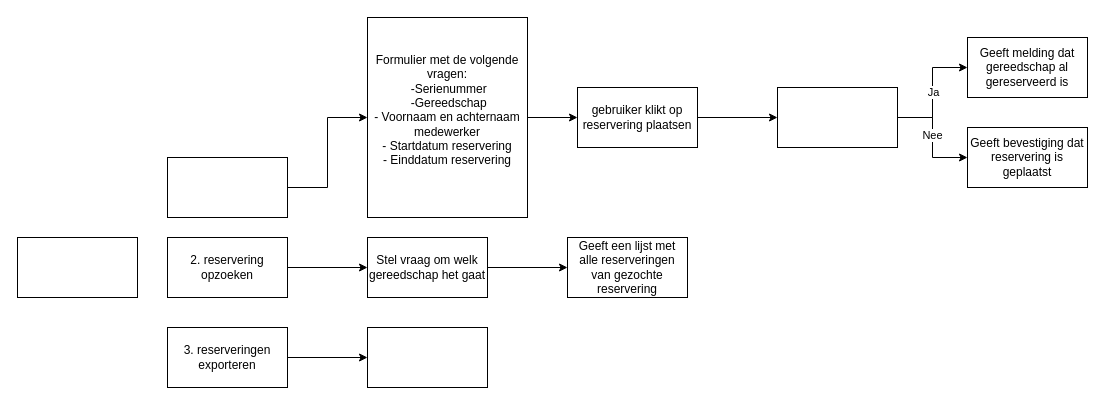
Image size: 1105x405. Some labels were removed from this diagram. Here are the shapes that lost their labels. From the top down, the box of each, then its label:
(776, 86, 898, 148): Is gereedschap al gereserveerd?
(166, 156, 288, 218): 1. Reservering plaatsen
(16, 236, 138, 298): Start applicatie
(366, 326, 488, 388): Exporeert reserveringen in een JSON bestand
